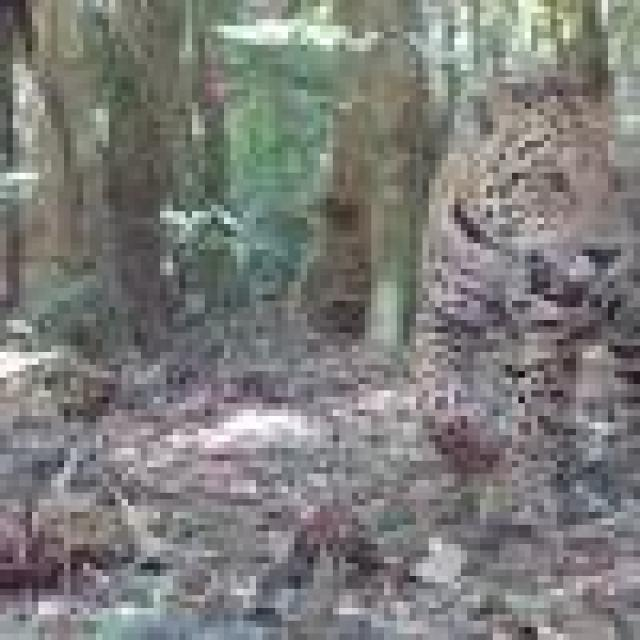Jaguar: (409, 70, 640, 473)
